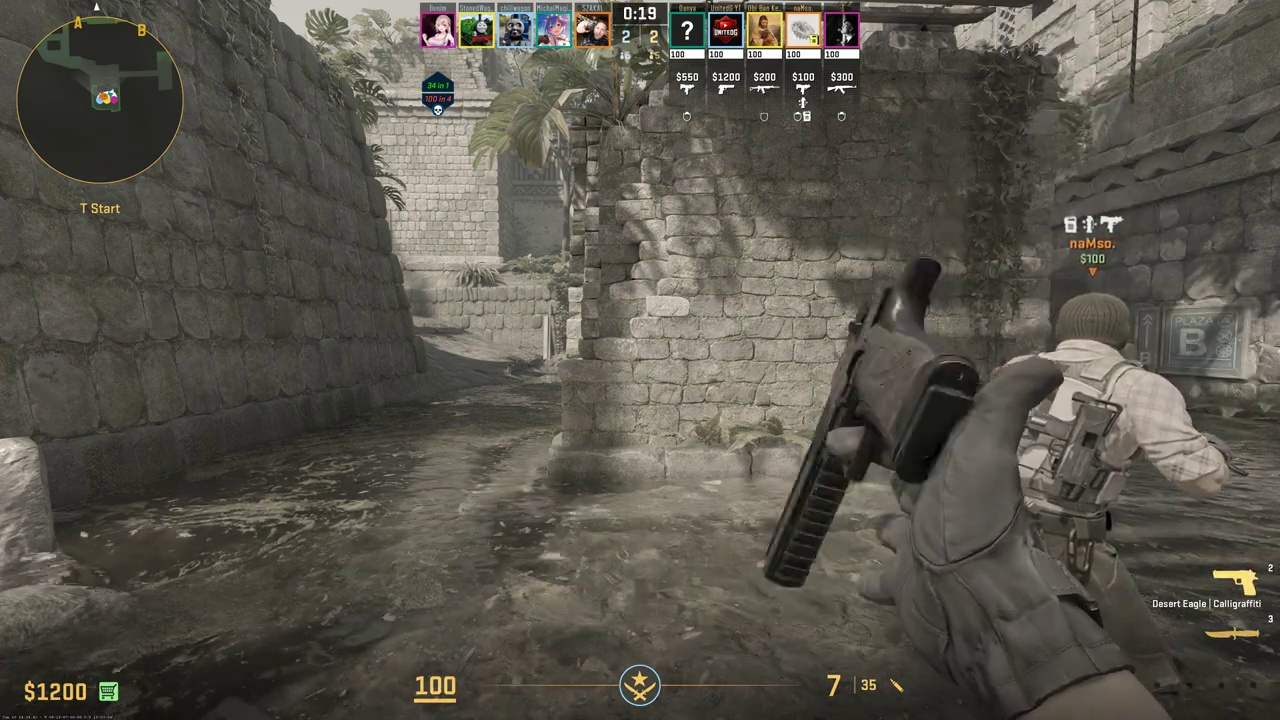Terrorist: (1008, 293, 1173, 713)
